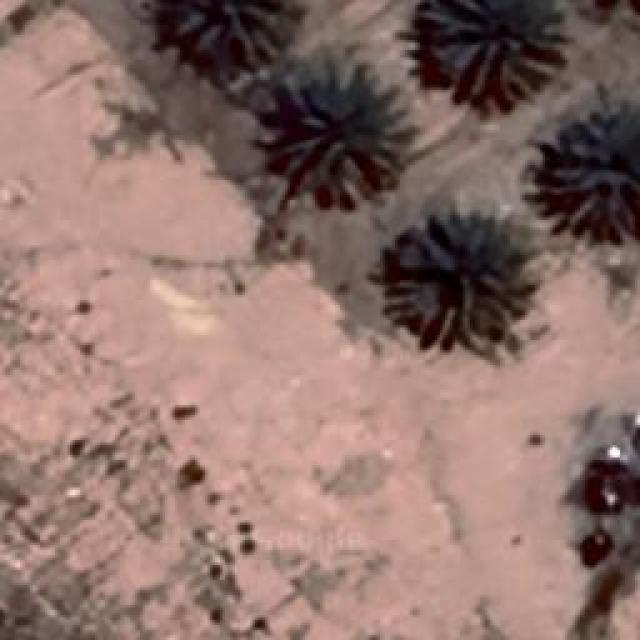PalmTree: (280, 70, 408, 208), (387, 210, 515, 348), (420, 0, 560, 102), (542, 102, 638, 240), (170, 0, 300, 55)
